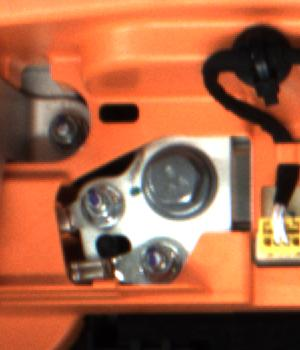nut_b: (135, 139, 225, 218)
screw_s: (136, 237, 181, 284), (78, 184, 112, 226), (43, 113, 82, 148)
